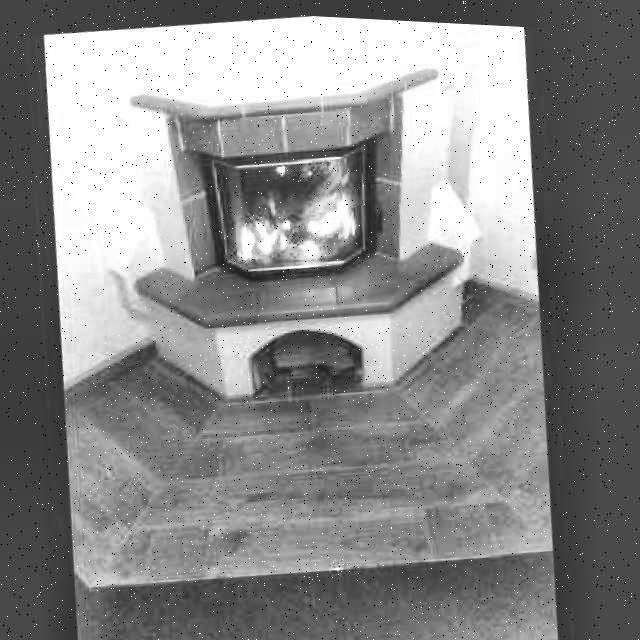Fire: (214, 132, 372, 272)
